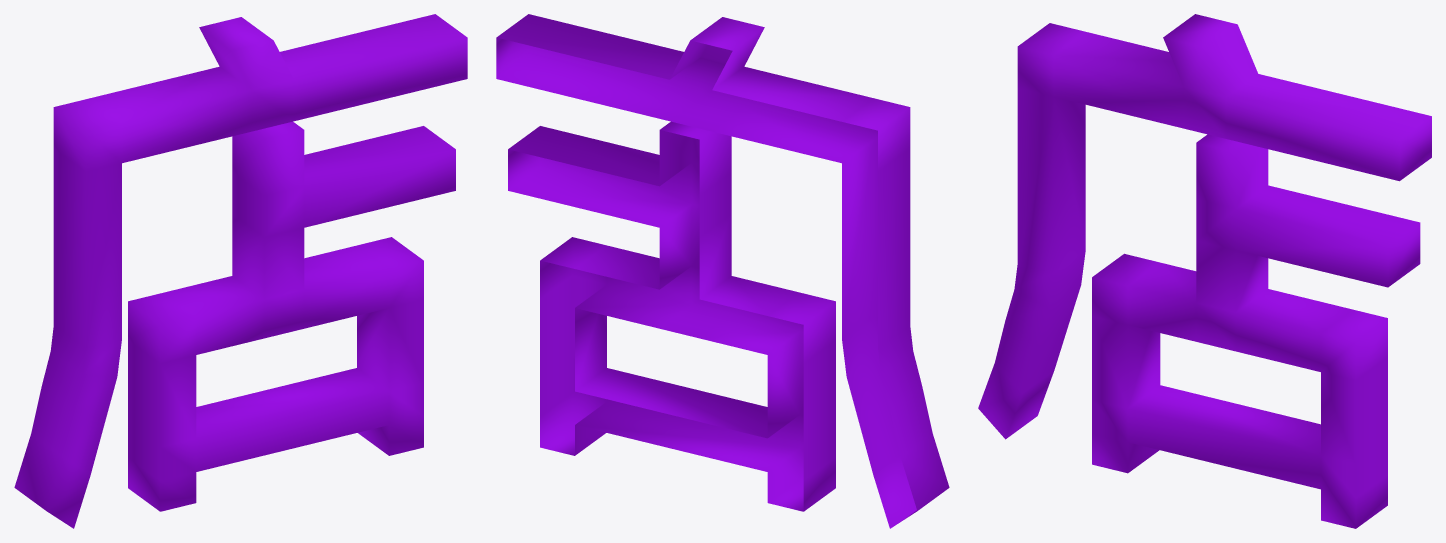
Rendered from Shop.glb.
3 views of the same model, side by side, from view 1: azimuth 30°, elevation 25°; view 2: azimuth 150°, elevation 25°; view 3: azimuth 330°, elevation 25° (orthographic).
Parts seen in each view (by area): view 1: Shop; view 2: Shop; view 3: Shop.
Boxes of the visible parts, x1=… form: Shop: x1=14, y1=14, x2=467, y2=528; Shop: x1=496, y1=14, x2=949, y2=528; Shop: x1=978, y1=14, x2=1431, y2=528.
Size of the model in its own units: 0.5017 by 0.5052 by 0.0664.
Materials: 1 (1 with a texture image).
